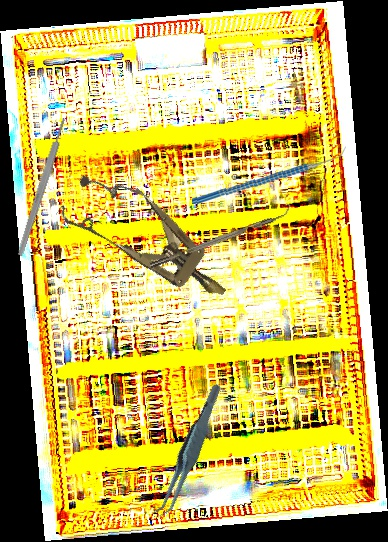Chopper: (191, 140, 347, 210), (146, 203, 295, 269)
Scalpel Handle: (15, 117, 69, 257)
Speculum: (53, 158, 245, 323)
Tissue Forceps: (130, 381, 248, 523)
